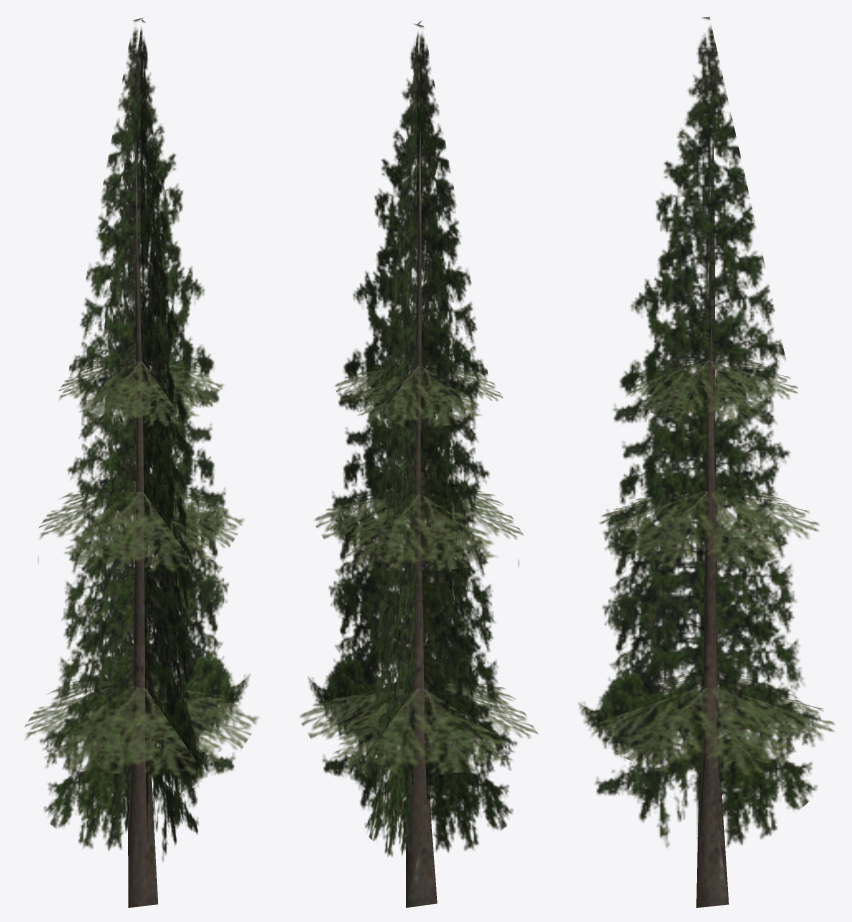
File: tree_01.glb
3 renders of one model, left to right at view 1: azimuth 30°, elevation 25°; view 2: azimuth 150°, elevation 25°; view 3: azimuth 270°, elevation 25°, orthographic.
Parts seen in each view (by area): view 1: Background_Tree_Atlas_Background_Tree_Atlas_0; view 2: Background_Tree_Atlas_Background_Tree_Atlas_0; view 3: Background_Tree_Atlas_Background_Tree_Atlas_0.
Part boxes in pixels (<box>): Background_Tree_Atlas_Background_Tree_Atlas_0: <box>24,18,259,907</box>; Background_Tree_Atlas_Background_Tree_Atlas_0: <box>300,21,537,907</box>; Background_Tree_Atlas_Background_Tree_Atlas_0: <box>578,17,834,907</box>.
Bounding box in the file's own units: 6.97 × 26.01 × 7.05.
Materials: 1 (1 with a texture image).
